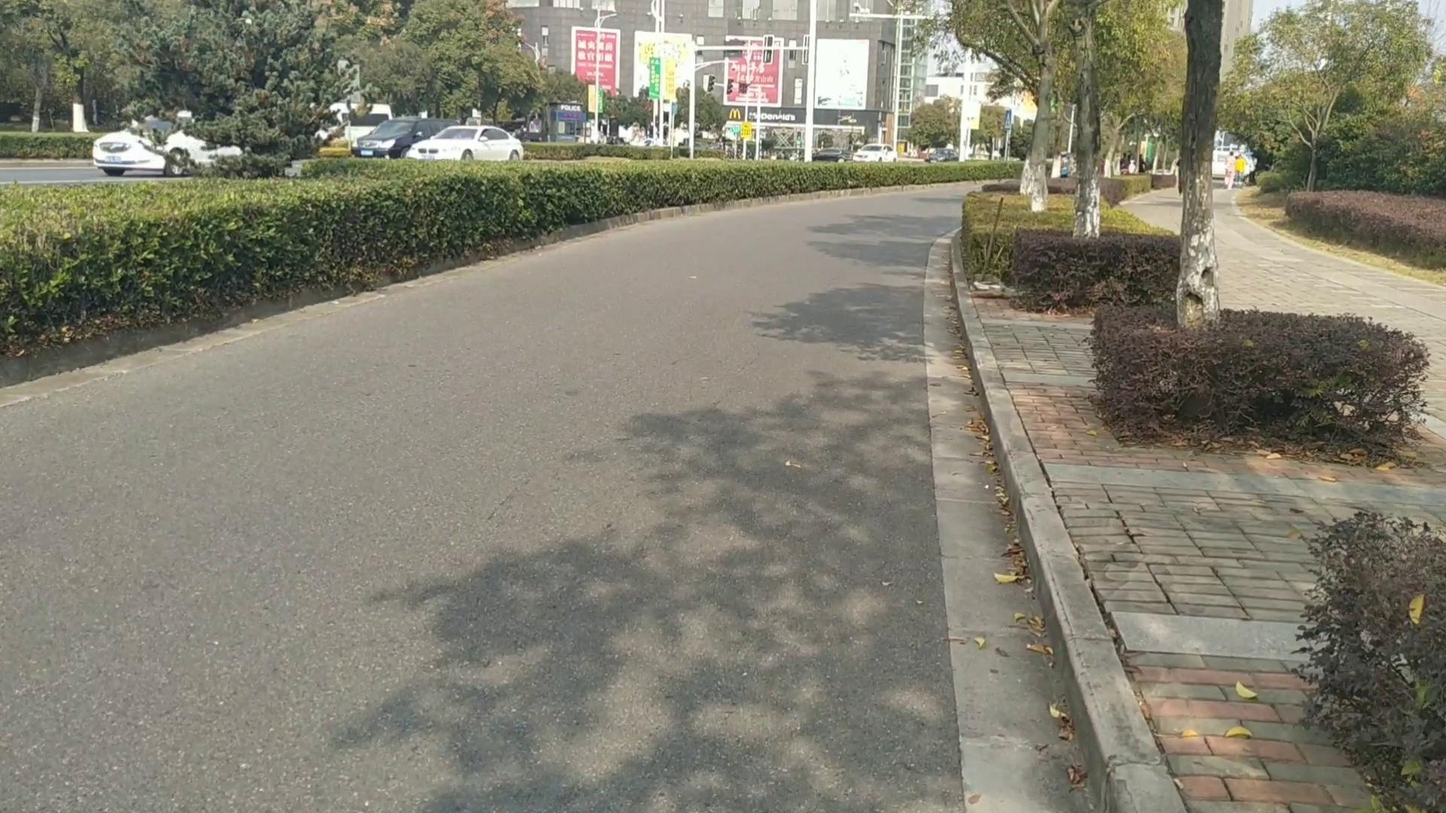car: (410, 124, 526, 163), (352, 119, 451, 160), (160, 130, 243, 175), (91, 133, 171, 177), (315, 118, 397, 157), (1212, 141, 1256, 187), (850, 144, 895, 162), (926, 147, 958, 163)
